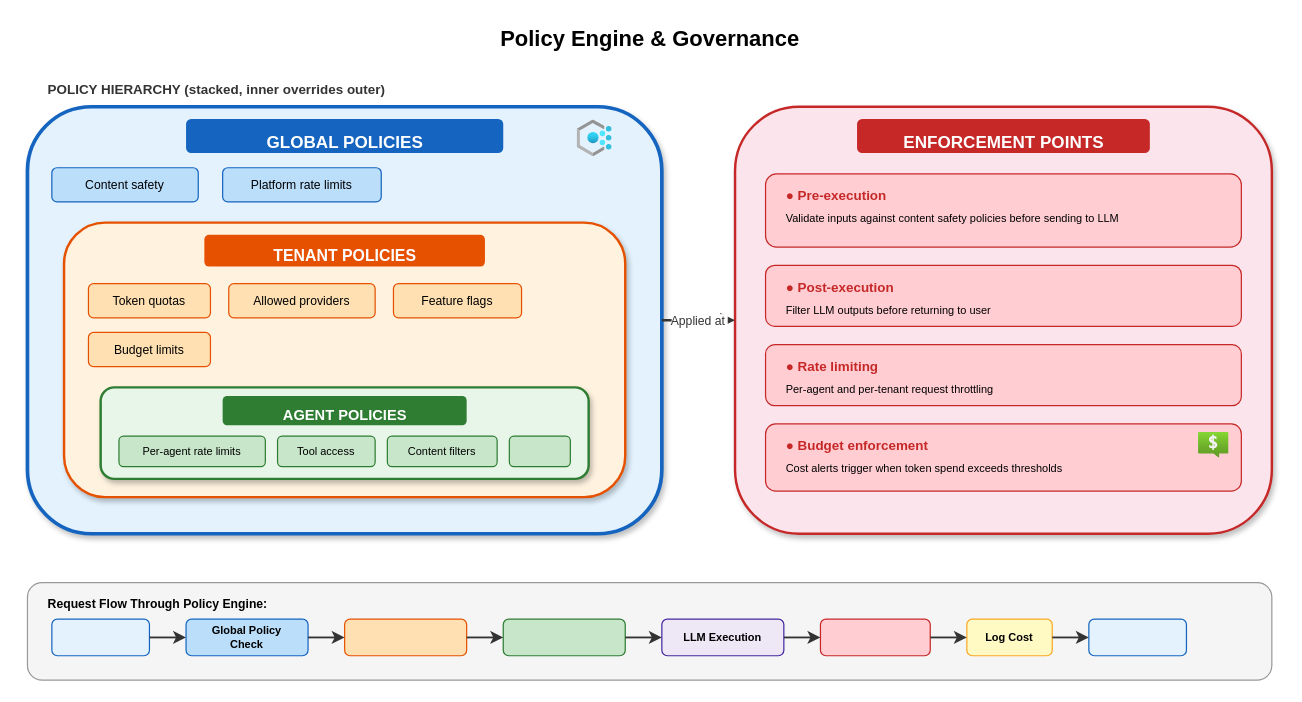
Image size: 1302x702. Some labels were removed from this diagram. The centre of each missing label's shape, as x and y in pixels:
"Agent Policy Check" belongs at point 563,637.
"Max iterations" belongs at point 539,451.
"Post-exec Filter" belongs at point 874,637.
"Response" belongs at point 1137,637.
"Tenant Policy Check" belongs at point 405,637.
"User Input" belongs at point 100,637.
